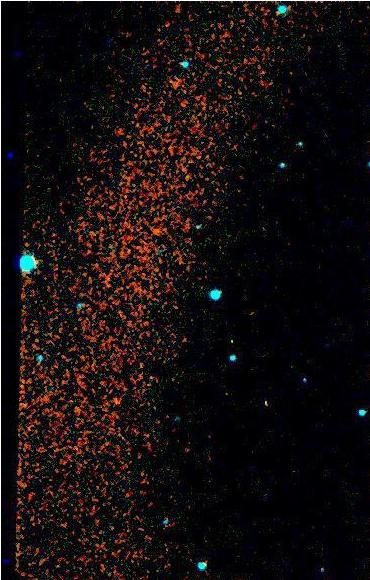star: (141, 217, 171, 247)
